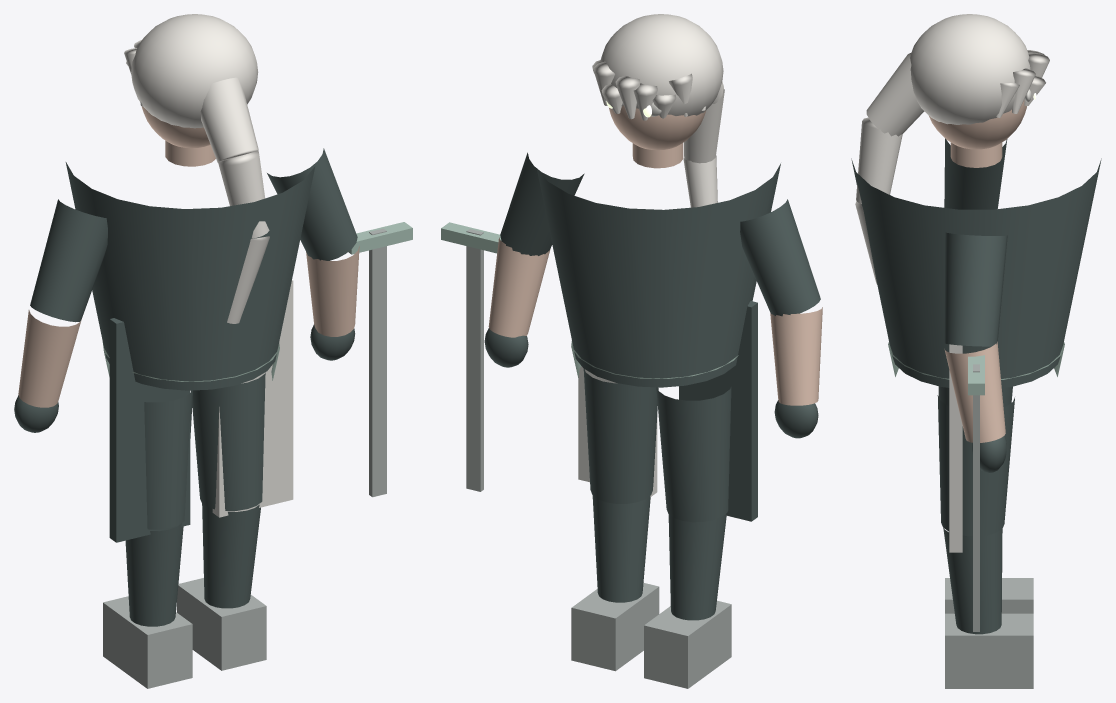
File: rose-procedural-v1.glb
3 renders of one model, left to right at view 1: azimuth 30°, elevation 25°; view 2: azimuth 150°, elevation 25°; view 3: azimuth 270°, elevation 25°, orthographic. The views are drawn at different scales.
Parts seen in each view (by area): view 1: Outfit_Torso, Hair_Cap, Outfit_CoatTail_L, Body_Thigh_R, Body_UpperArm_L, Outfit_CoatTail_R, Outfit_Boot_L, Body_Thigh_L, Outfit_Boot_R, Body_Shin_R, Body_Shin_L, Weapon_SwordBlade (+11 smaller); view 2: Outfit_Torso, Body_Thigh_L, Body_Thigh_R, Hair_Cap, Outfit_CoatTail_L, Body_UpperArm_L, Outfit_Boot_L, Outfit_Boot_R, Body_Shin_R, Body_Shin_L, Weapon_SwordBlade, Body_Forearm_L (+11 smaller); view 3: Outfit_Torso, Hair_Cap, Body_UpperArm_R, Outfit_Boot_R, Body_Thigh_R, Body_Shin_R, Body_Forearm_R, Body_UpperArm_L, Hair_Ponytail_0, Hair_Ponytail_1, Outfit_CoatTail_R, Body_Head (+8 smaller).
Boxes of the visible parts, x1,y1,x2,y2 form: Outfit_Torso: (65,162,315,390); Hair_Cap: (131,14,258,128); Outfit_CoatTail_L: (109,318,190,542); Body_Thigh_R: (191,372,265,510); Body_UpperArm_L: (30,199,107,322); Outfit_CoatTail_R: (212,280,293,517); Outfit_Boot_L: (103,596,192,688); Body_Thigh_L: (144,390,192,529); Outfit_Boot_R: (177,578,266,670); Body_Shin_R: (202,503,260,608); Body_Shin_L: (125,523,183,626); Weapon_SwordBlade: (369,228,386,497); Outfit_Torso: (536,163,780,387); Body_Thigh_L: (656,387,731,522); Body_Thigh_R: (583,369,658,503); Hair_Cap: (600,14,723,116); Outfit_CoatTail_L: (679,301,757,521); Body_UpperArm_L: (740,199,820,316); Outfit_Boot_L: (644,600,731,688); Outfit_Boot_R: (571,583,659,671); Body_Shin_R: (592,495,650,602); Body_Shin_L: (668,514,726,620); Weapon_SwordBlade: (466,229,483,491); Body_Forearm_L: (770,307,822,405); Outfit_Torso: (851,158,1101,387); Hair_Cap: (910,14,1030,124); Body_UpperArm_R: (944,232,1007,346); Outfit_Boot_R: (945,613,1033,688); Body_Thigh_R: (937,395,1014,536); Body_Shin_R: (943,528,1002,634); Body_Forearm_R: (944,341,1005,442); Body_UpperArm_L: (944,138,1007,209); Hair_Ponytail_0: (866,53,924,136); Hair_Ponytail_1: (856,117,902,203); Outfit_CoatTail_R: (949,344,962,552); Body_Head: (929,100,1026,149).
Size of the model in its own units: 1.19 by 1.89 by 0.6724.
